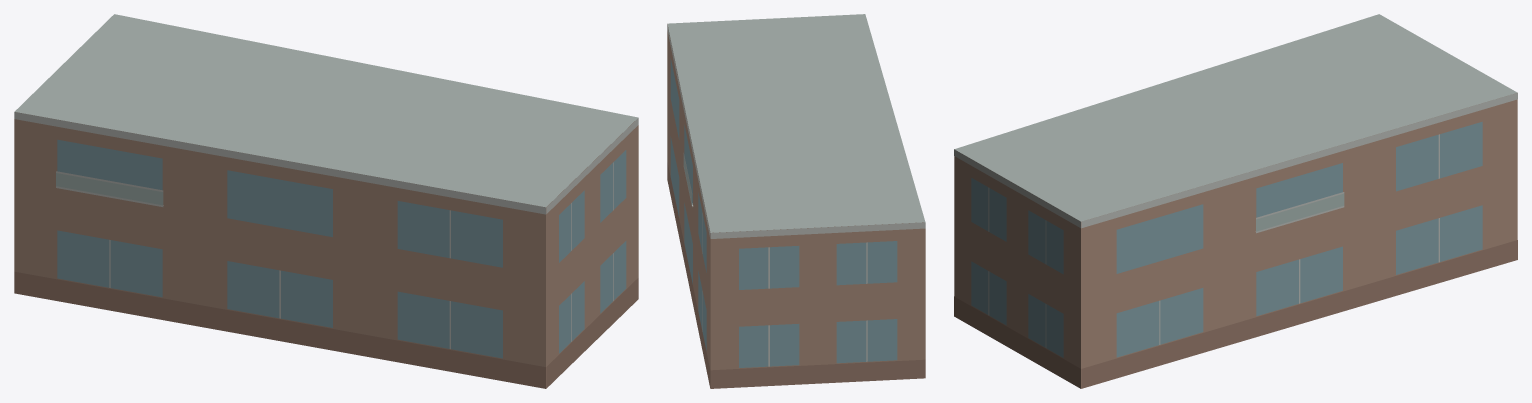
The model's file is survey-upis-32645290.glb.
3 renders of one model, left to right at view 1: azimuth 30°, elevation 25°; view 2: azimuth 150°, elevation 25°; view 3: azimuth 270°, elevation 25°, orthographic. The views are drawn at different scales.
Visible parts, largest first — view 1: survey-upis-32645290.tmp; view 2: survey-upis-32645290.tmp; view 3: survey-upis-32645290.tmp.
Boxes of the visible parts, x1=… form: survey-upis-32645290.tmp: x1=14, y1=14, x2=638, y2=388; survey-upis-32645290.tmp: x1=667, y1=14, x2=925, y2=388; survey-upis-32645290.tmp: x1=954, y1=14, x2=1517, y2=388.
Bounding box in the file's own units: 16.26 × 6.1 × 18.65.
